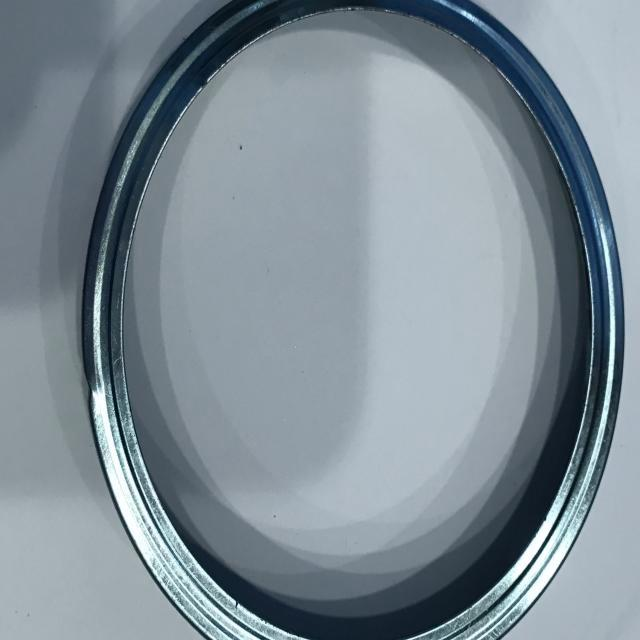metal: (74, 0, 640, 640)
